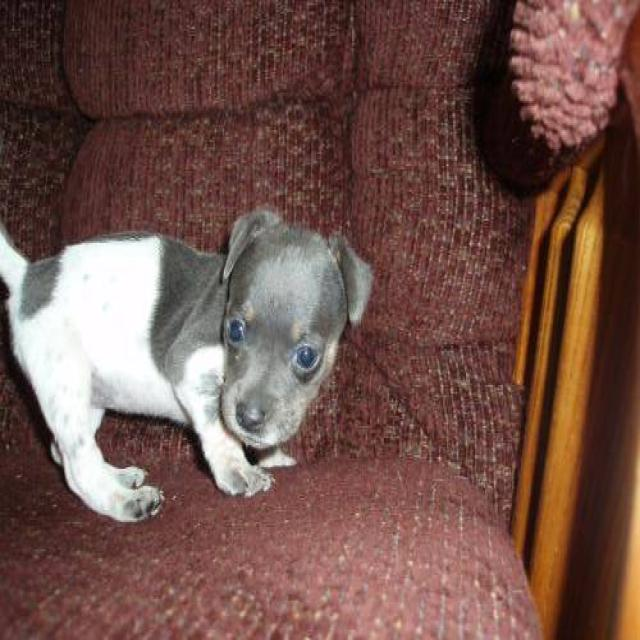dog: (0, 204, 374, 524)
